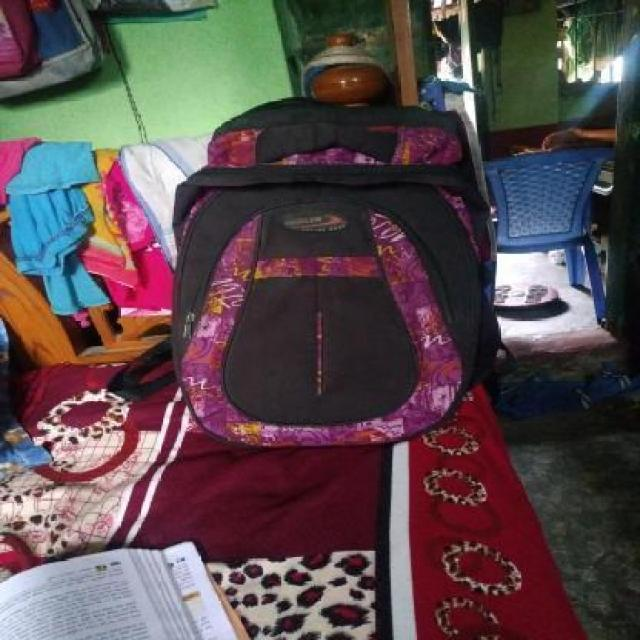backpack: (169, 95, 502, 454)
